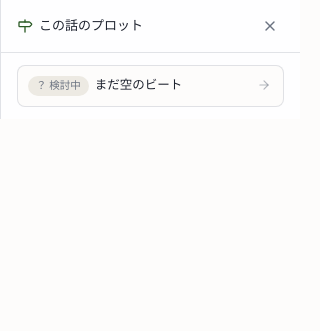
Test case: PlotPeek（この話のプロット） › 中身の無いビートでも空の案内は要約の 1 か所だけ
The image size is (320, 331).
Click the button "まだ空のビート".
click(172, 85)  # box [95,76,249,95]
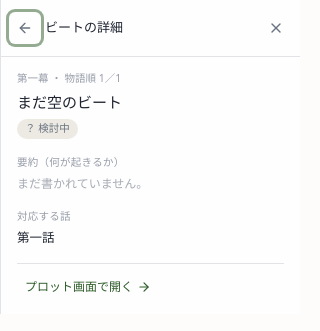
Now the text "まだ書かれていません。" is shown once, box [17,175,148,192]
Now the text "第一話" is shown, box [17,229,54,246]
